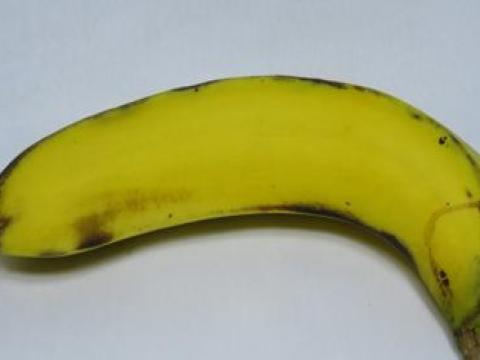freshripe: (0, 63, 479, 359)
